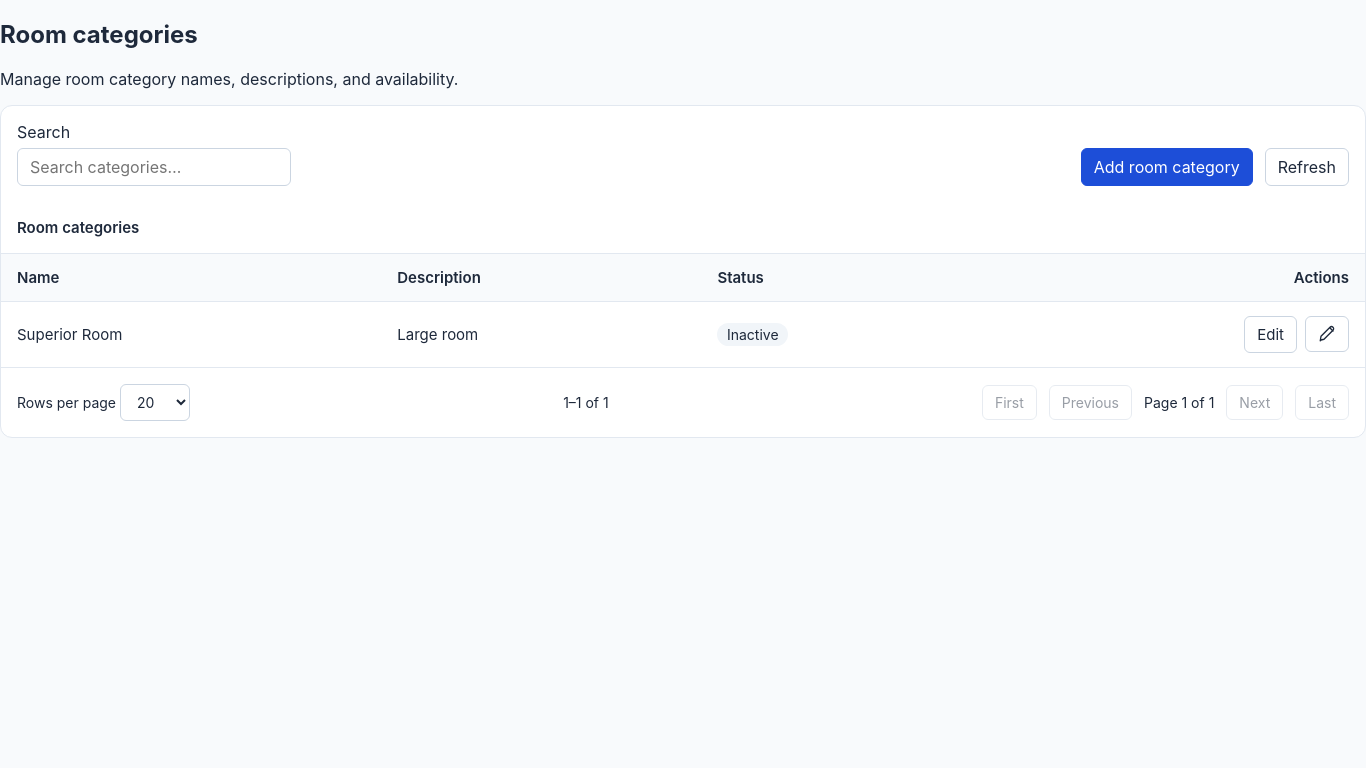
room categories › updates the selected category status to true from the pencil action
Click the button named "Update status for Superior Room": (1327, 334) [1305, 316, 1349, 352]
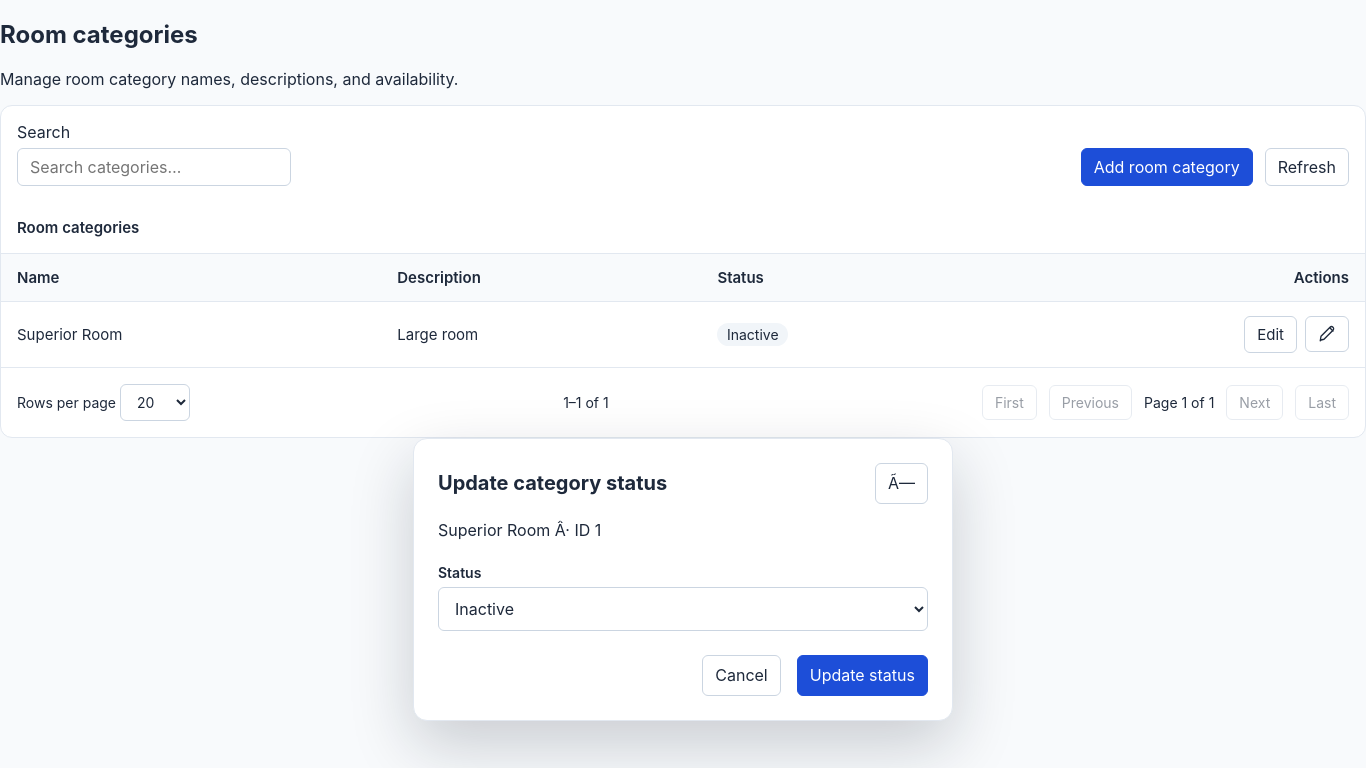
Check: the dialog shows "ID 1", box [438, 520, 601, 540]
Select "Active" in the dropdown named "is_active": (683, 609) [438, 587, 928, 631]
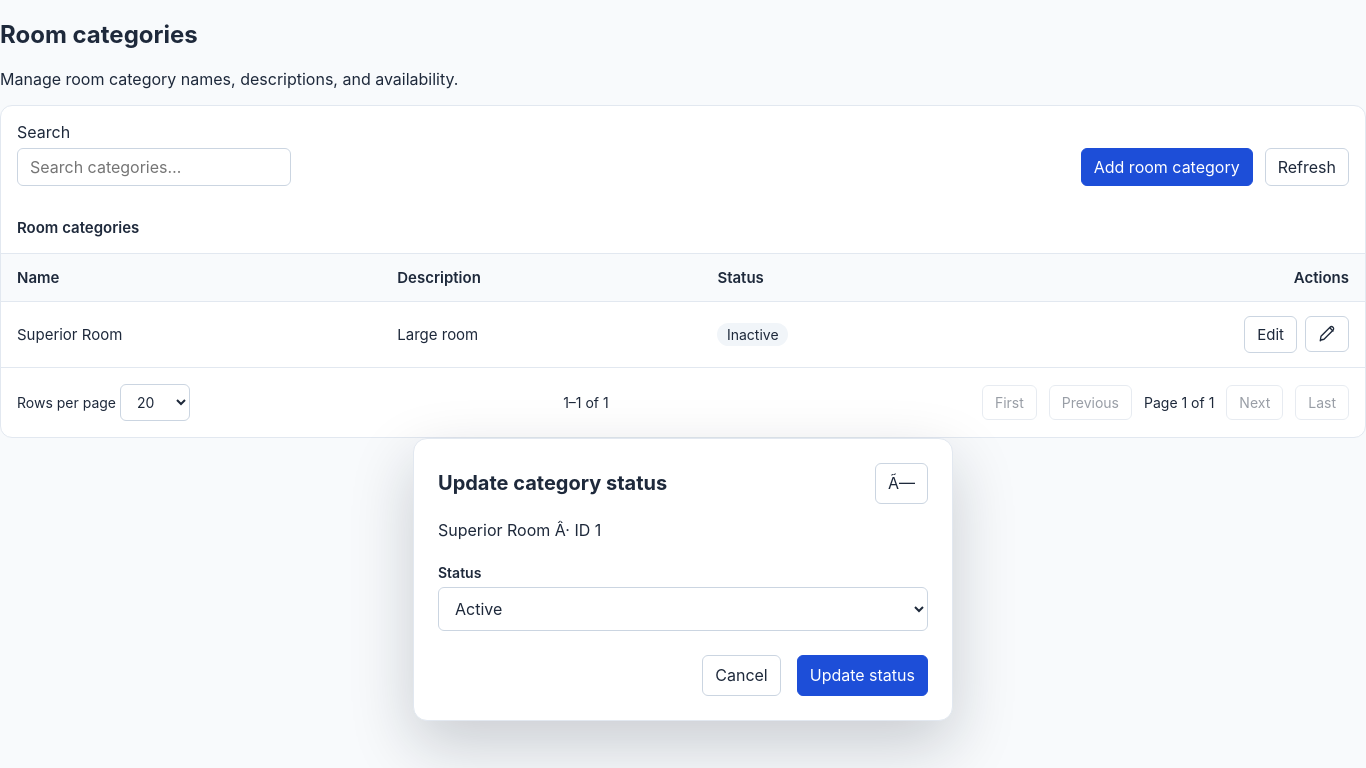
Submit the form, box [438, 463, 928, 696]
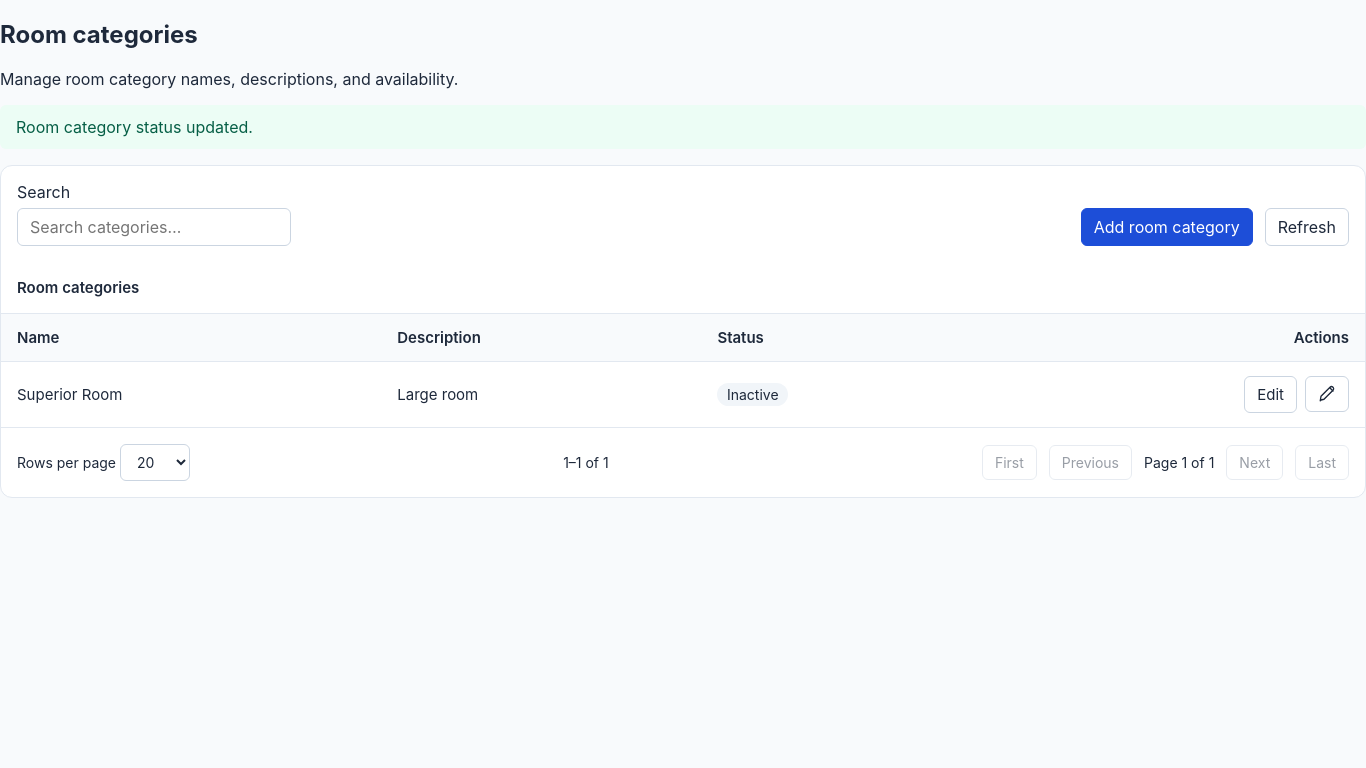
Check: the text "Room category status updated." is shown, box [0, 105, 1365, 149]
